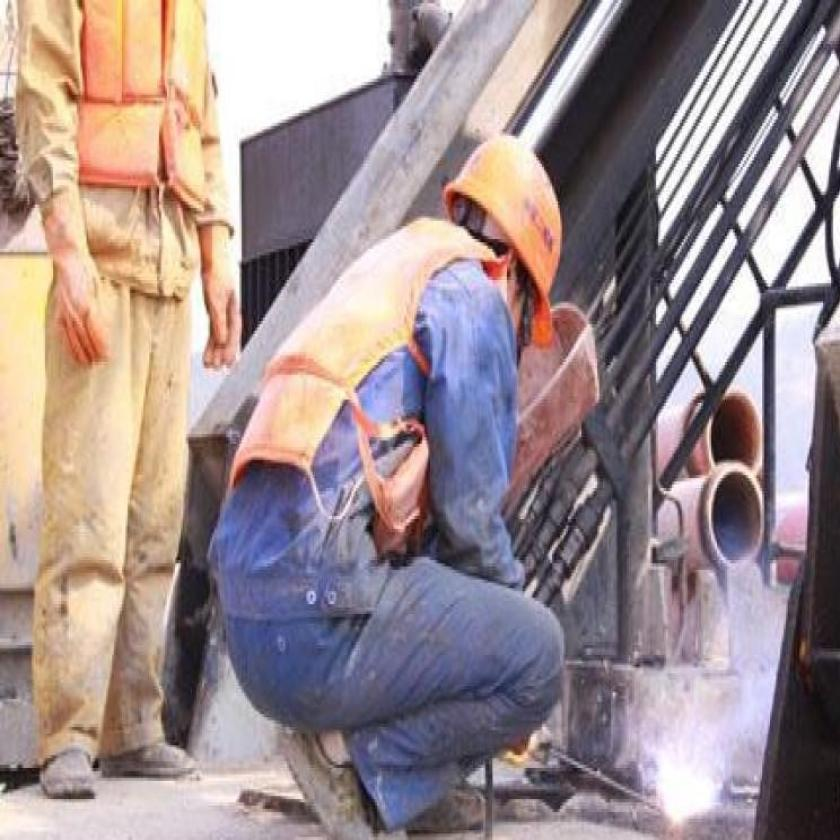Con_casco: (446, 131, 567, 365)
